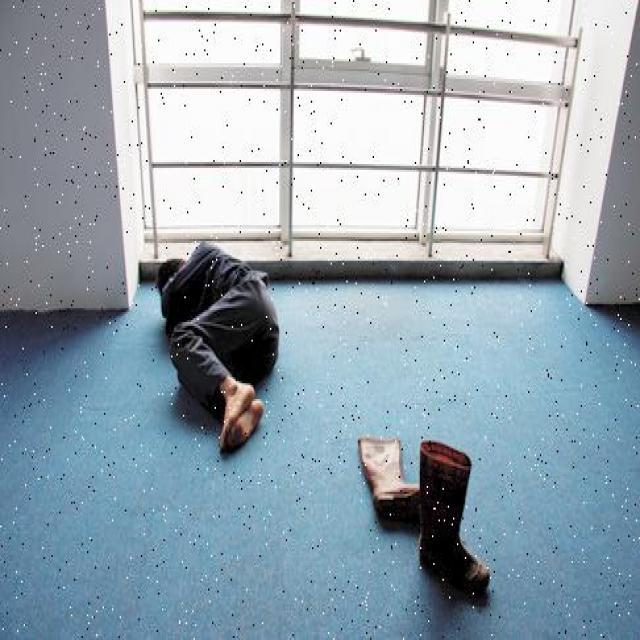fall: (151, 249, 278, 454)
